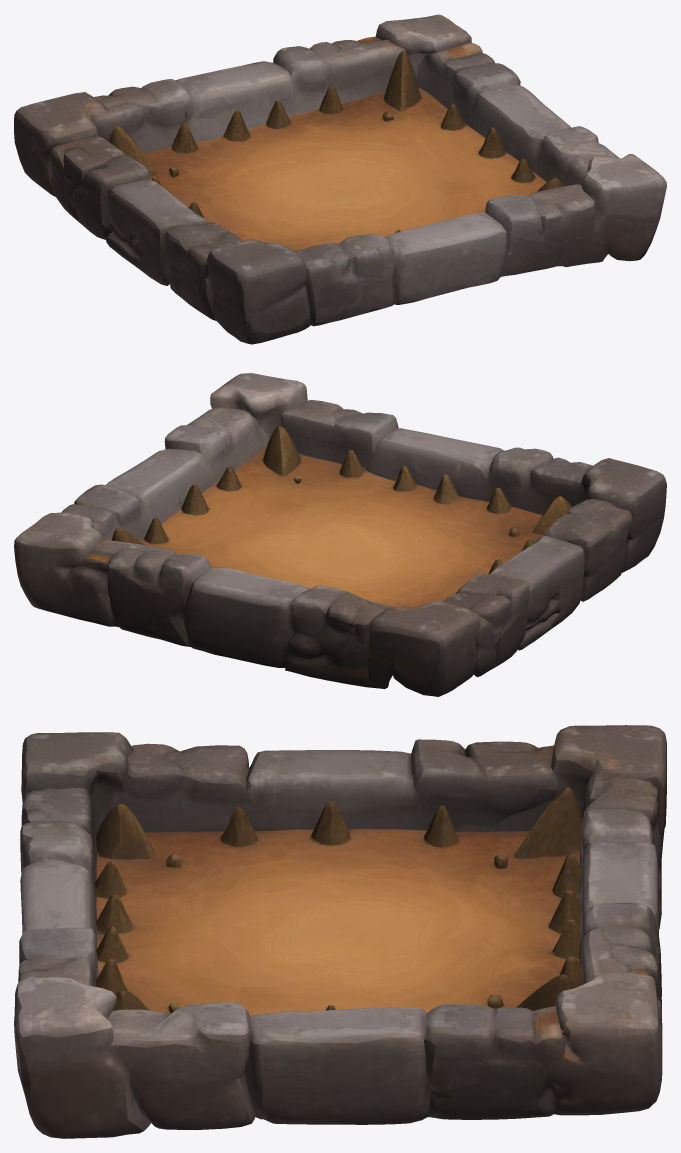
The model's file is lg-dungeon-spikes.glb.
3 renders of one model, top to bottom at view 1: azimuth 30°, elevation 25°; view 2: azimuth 150°, elevation 25°; view 3: azimuth 270°, elevation 25°, orthographic. The views are drawn at different scales.
Visible parts, largest first — view 1: geometry_0; view 2: geometry_0; view 3: geometry_0.
Boxes of the visible parts, left/top/right/bottom form: geometry_0: left=14, top=14, right=666, bottom=344; geometry_0: left=14, top=373, right=666, bottom=696; geometry_0: left=14, top=725, right=666, bottom=1138.
Size of the model in its own units: 1 by 0.2087 by 0.9295.
1 material, 1 textured.
